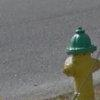Hydrant: (54, 13, 100, 100)
